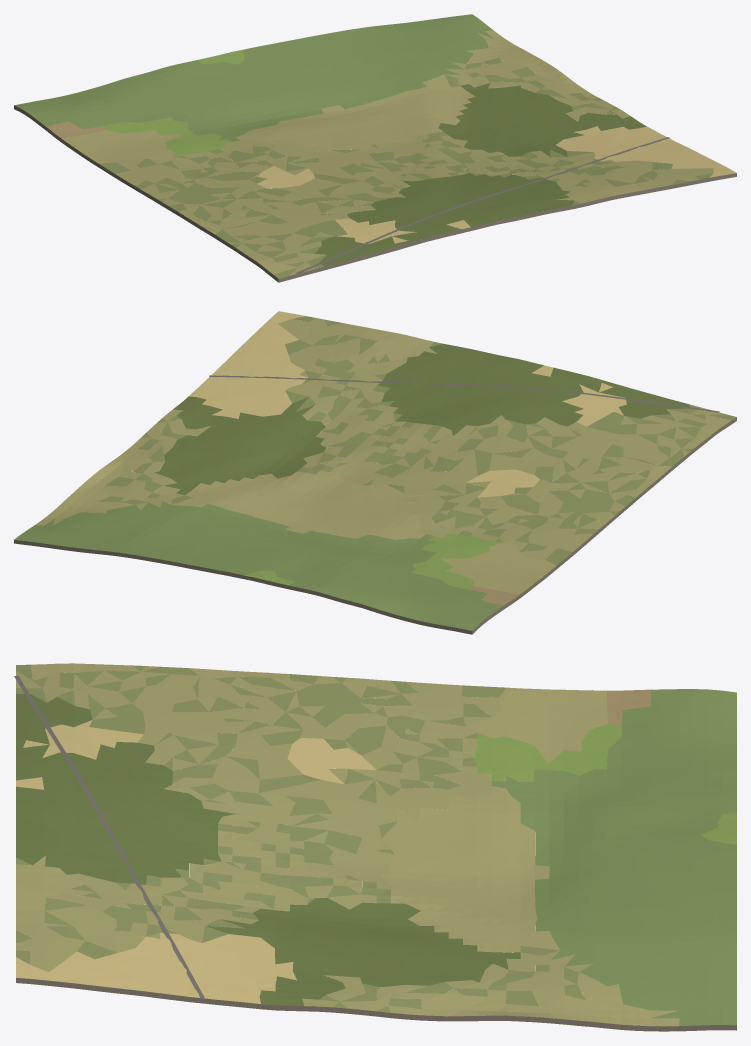
Rendered from parca_+0_-2-uzak.glb.
3 views of the same model, one above another, from view 1: azimuth 30°, elevation 25°; view 2: azimuth 150°, elevation 25°; view 3: azimuth 270°, elevation 25° (orthographic). The views are drawn at different scales.
Parts seen in each view (by area): view 1: parca_+0_-2_arazi_uzak, parca_+0_-2_yollar_uzak; view 2: parca_+0_-2_arazi_uzak, parca_+0_-2_yollar_uzak; view 3: parca_+0_-2_arazi_uzak, parca_+0_-2_yollar_uzak.
Part boxes in pixels (x1,y1,x2,y2): parca_+0_-2_arazi_uzak: (14, 14, 736, 282); parca_+0_-2_yollar_uzak: (295, 137, 669, 274); parca_+0_-2_arazi_uzak: (14, 311, 736, 634); parca_+0_-2_yollar_uzak: (209, 375, 719, 412); parca_+0_-2_arazi_uzak: (16, 663, 736, 1031); parca_+0_-2_yollar_uzak: (14, 675, 204, 998).
Size of the model in its own units: 1003 by 105 by 1003.
